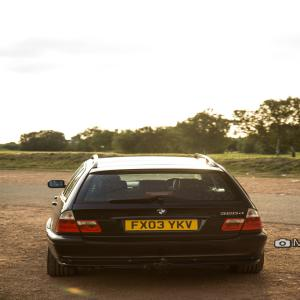Vehicle-registration-plate: (124, 220, 200, 233)
